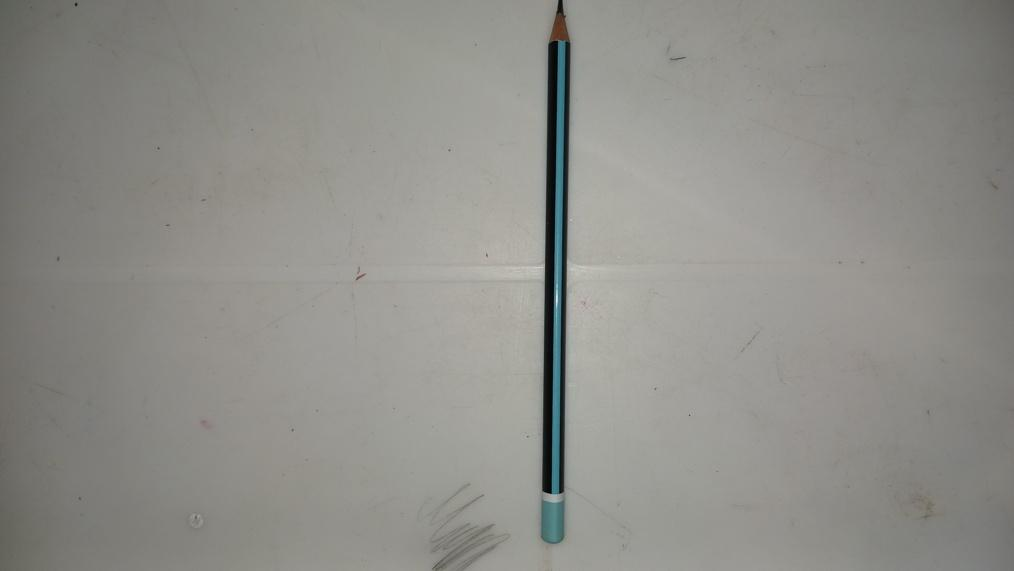Pencil: (542, 2, 575, 544)
